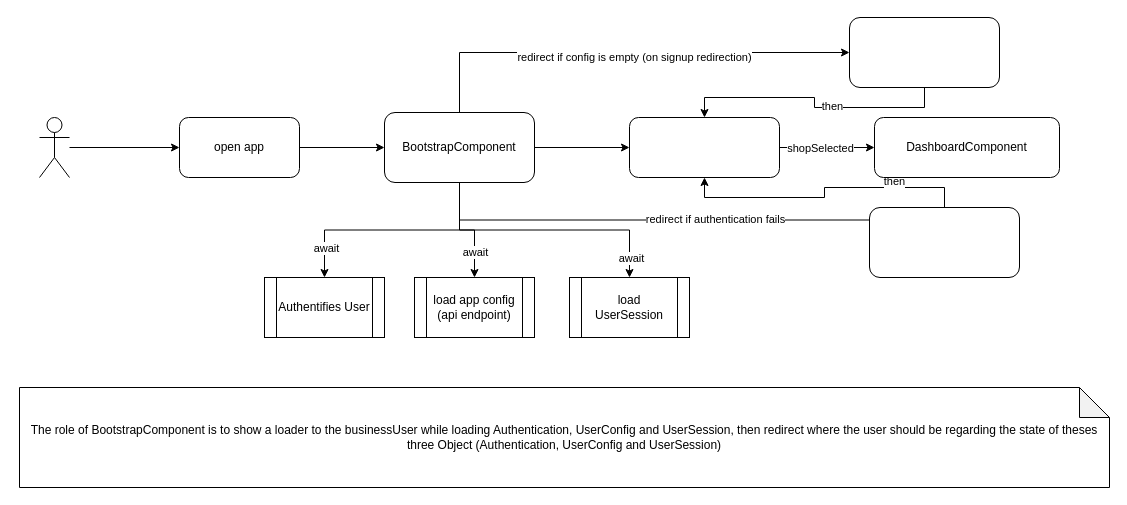
This 1127x505 diagram has some shape labels left out. The shapes that lost their labels are listed below. From the top down, each one's centre as x and y in pixels, then its label:
the point at 924,52: SetConfigComponent
the point at 54,147: BusinessUser
the point at 704,147: ShopListComponent
the point at 944,242: LoginComponent
